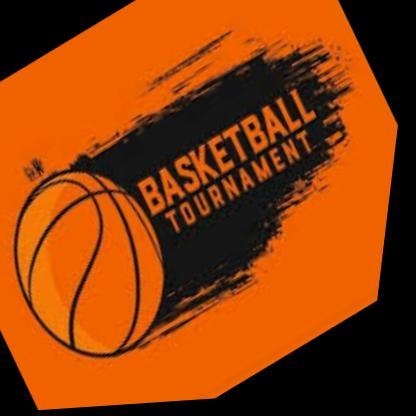basketball: (0, 136, 221, 396)
